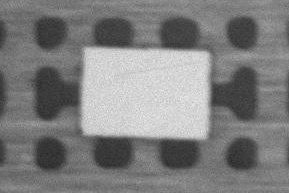DIE_CRACK: (172, 41, 289, 50)
